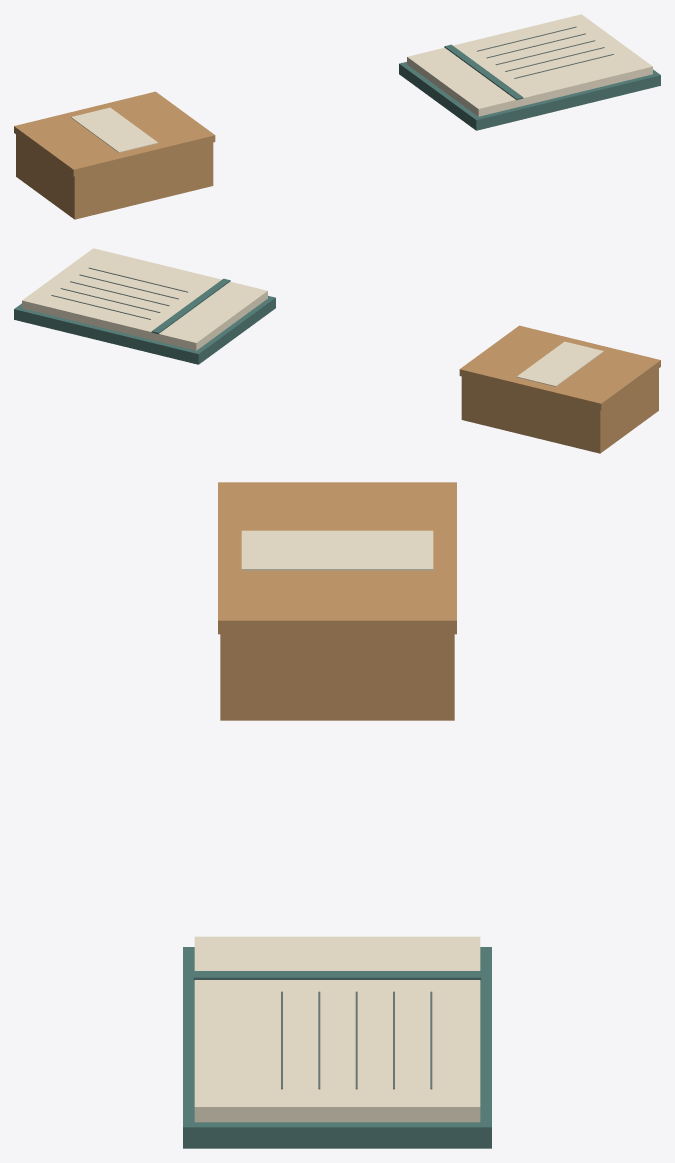
File: bar-pickup-register.glb
3 views of the same model, one above another, from view 1: azimuth 30°, elevation 25°; view 2: azimuth 150°, elevation 25°; view 3: azimuth 270°, elevation 25° (orthographic). The views are drawn at different scales.
Parts seen in each view (by area): view 1: Receipt leaves, Folded takeaway carton, Carton lid lip, Bound pickup ledger, Receipt strip, Binding tape; view 2: Receipt leaves, Folded takeaway carton, Carton lid lip, Bound pickup ledger, Receipt strip, Binding tape; view 3: Receipt leaves, Carton lid lip, Folded takeaway carton, Bound pickup ledger, Receipt strip, Binding tape.
Part boxes in pixels (bbox=[...]): Receipt leaves: bbox=[407, 14, 652, 116]; Folded takeaway carton: bbox=[16, 134, 213, 219]; Carton lid lip: bbox=[14, 91, 215, 176]; Bound pickup ledger: bbox=[399, 62, 660, 130]; Receipt strip: bbox=[71, 107, 157, 152]; Binding tape: bbox=[444, 44, 523, 100]; Receipt leaves: bbox=[22, 248, 267, 350]; Folded takeaway carton: bbox=[461, 368, 658, 453]; Carton lid lip: bbox=[459, 325, 660, 410]; Bound pickup ledger: bbox=[14, 296, 275, 364]; Receipt strip: bbox=[517, 341, 603, 386]; Binding tape: bbox=[151, 278, 230, 334]; Receipt leaves: bbox=[194, 936, 480, 1122]; Carton lid lip: bbox=[218, 482, 456, 634]; Folded takeaway carton: bbox=[220, 634, 454, 720]; Bound pickup ledger: bbox=[183, 947, 491, 1148]; Receipt strip: bbox=[241, 530, 433, 570]; Binding tape: bbox=[193, 971, 481, 980].
Bounding box in the file's own units: 1.25 × 0.1067 × 0.29.
